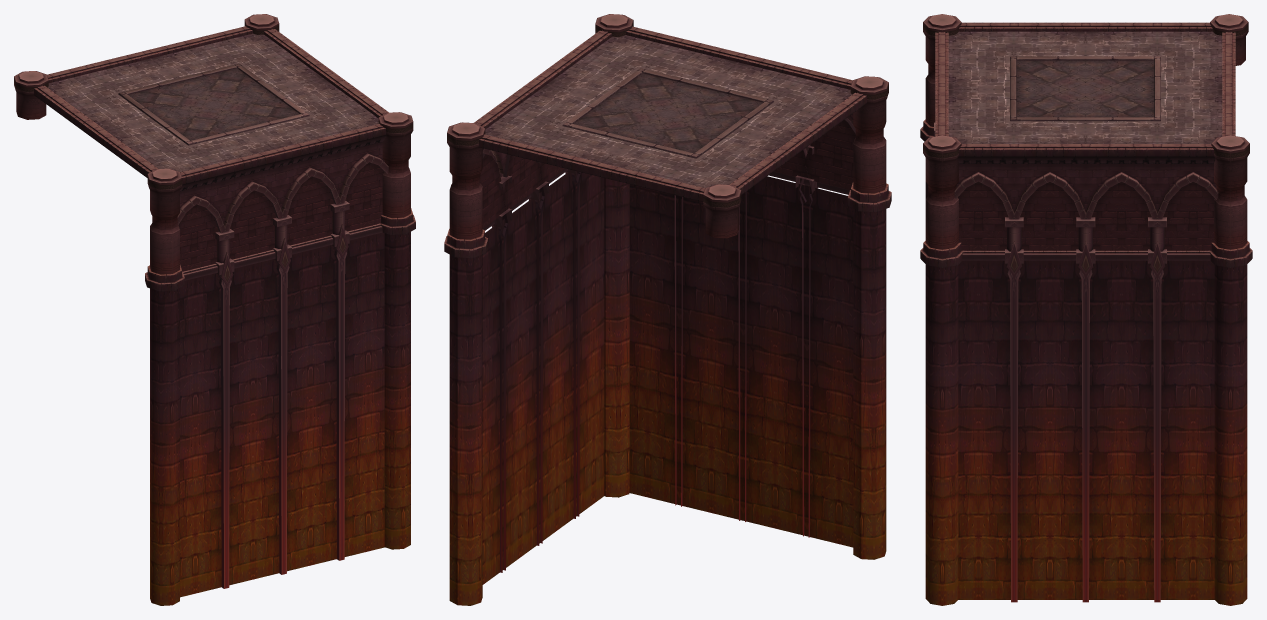
File: Dungeons_03_02_03.FBX
The picture shows the model from 3 angles, left to right: view 1: azimuth 30°, elevation 25°; view 2: azimuth 150°, elevation 25°; view 3: azimuth 270°, elevation 25°; orthographic projection. The views are drawn at different scales.
Visible parts, largest first — view 1: Object363; view 2: Object363; view 3: Object363.
Boxes of the visible parts, <box> form: Object363: <box>14,14,415,605</box>; Object363: <box>444,14,891,605</box>; Object363: <box>920,14,1252,605</box>.
Bounding box in the file's own units: 144 × 220 × 145.
